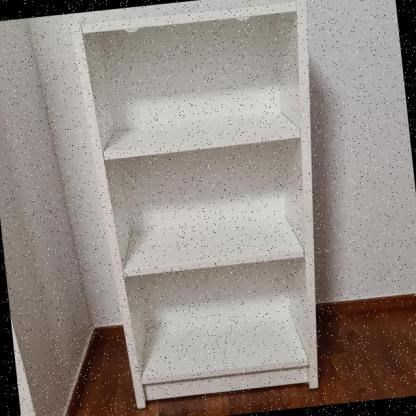Shelf: (62, 0, 350, 416)
